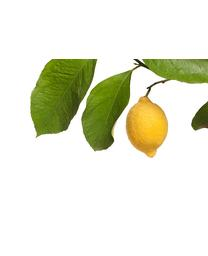lemon: (126, 96, 168, 160)
